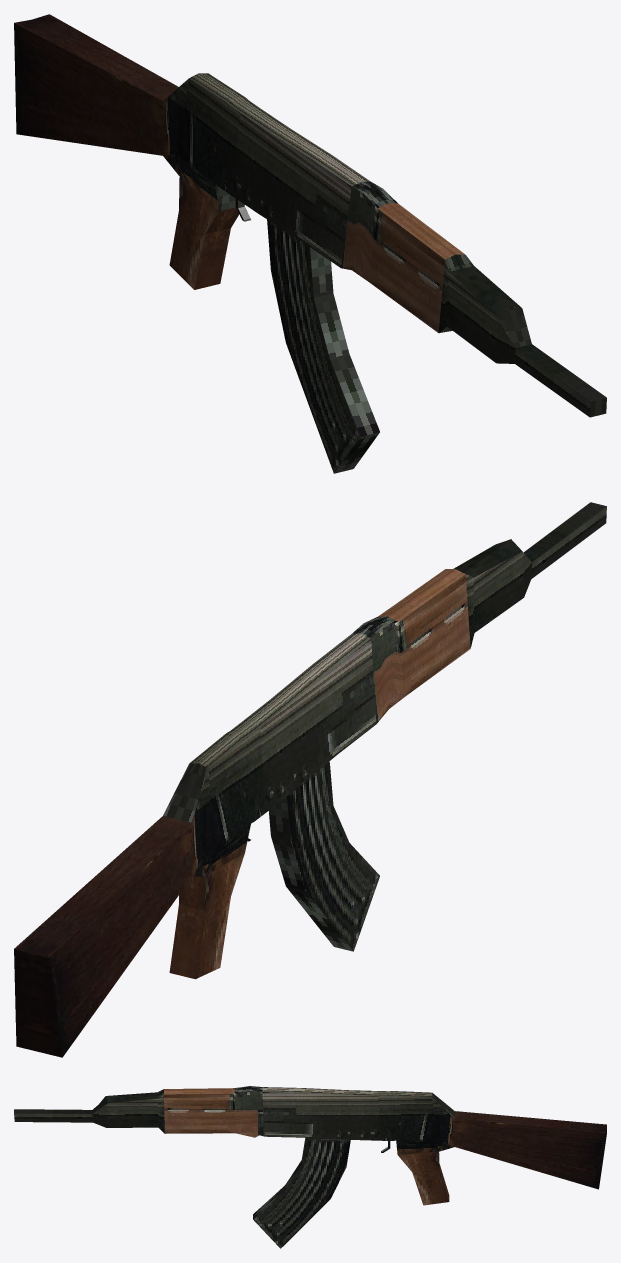
3 renders of one model, top to bottom at view 1: azimuth 30°, elevation 25°; view 2: azimuth 150°, elevation 25°; view 3: azimuth 270°, elevation 25°, orthographic. The views are drawn at different scales.
Parts seen in each view (by area): view 1: ak47; view 2: ak47; view 3: ak47.
Boxes of the visible parts, x1,y1,x2,y2 form: ak47: (14,14,606,473); ak47: (14,502,606,1057); ak47: (14,1086,606,1248).
Size of the model in its own units: 0.2282 by 1.44 by 4.86.
Materials: 1 (1 with a texture image).
